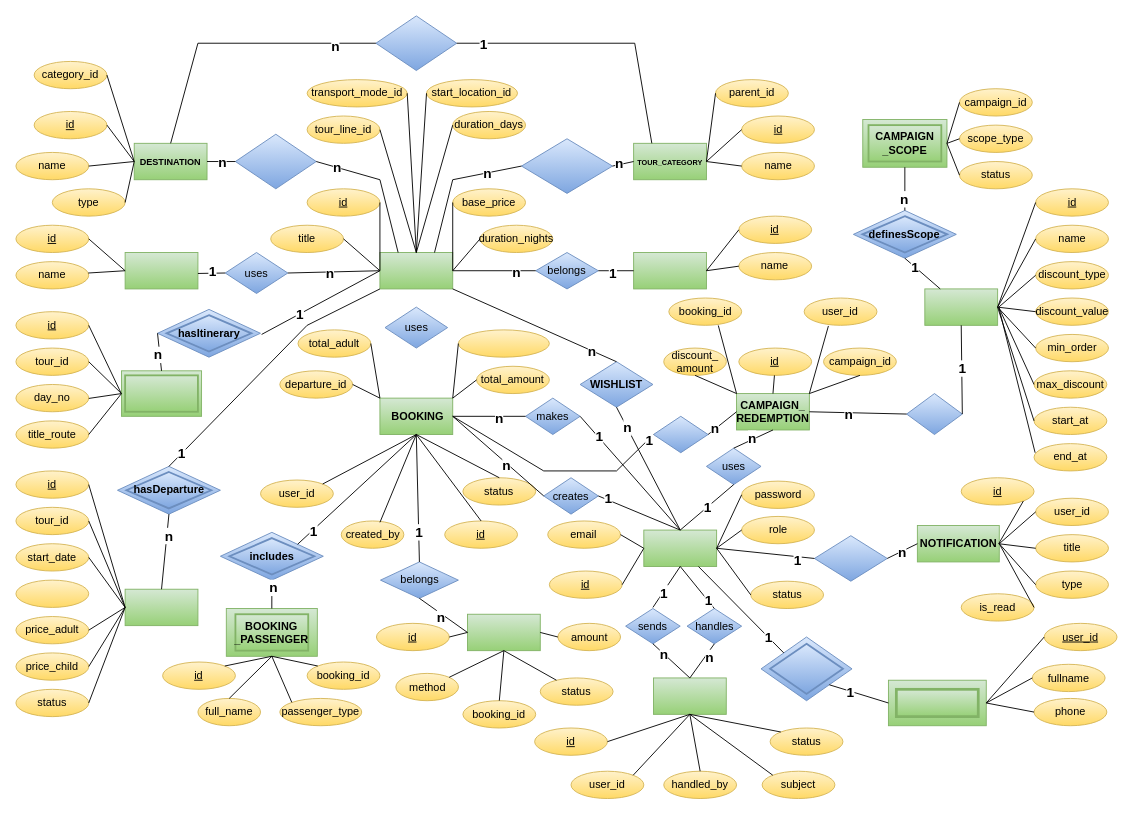
This 1133x814 diagram has some shape labels left out. The centre of each missing label's shape, as x and y in pixels:
"applies" belongs at (680,434).
"CAMPAIGN" belongs at (961,306).
"capacity" belongs at (52,593).
"classifiedAs" belongs at (416,43).
"CONTACT _INQUIRY" belongs at (689,695).
"DEPARTURE" belongs at (161,607).
"hasProfile" belongs at (806,668).
"isUsedIn" belongs at (934,414).
"ITINERARY_DAY" belongs at (161,393).
"PAYMENT" belongs at (503,632).
"receives" belongs at (850,558).
"total_child" belongs at (503,343).
"TOUR" belongs at (416,270).
"TOUR - CATEGORY" belongs at (567,165).
"Tour – Destination" belongs at (275,161).
"TOUR_LINE" belongs at (669,270).
"TRANSPORT_MODE" belongs at (161,270).
"USER" belongs at (680,547).
"USER_PROFILE" belongs at (937,703).
